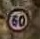limite 60: (6, 7, 30, 32)
